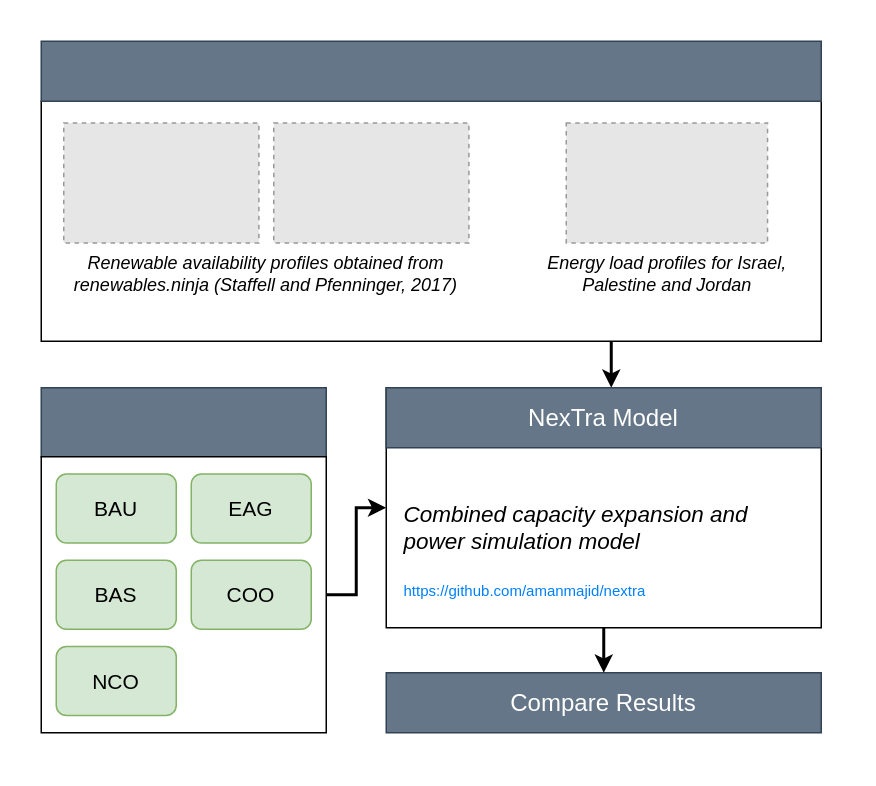
Image size: 876x786. Some labels were removed from this diagram. Grey dashed boxes stand in for pictures. Here are the shapes that lost their labels. From the top down, the centre of each, then its label:
At point (430, 70): "Forcing data".
At point (183, 421): "Energy policy scenarios".
